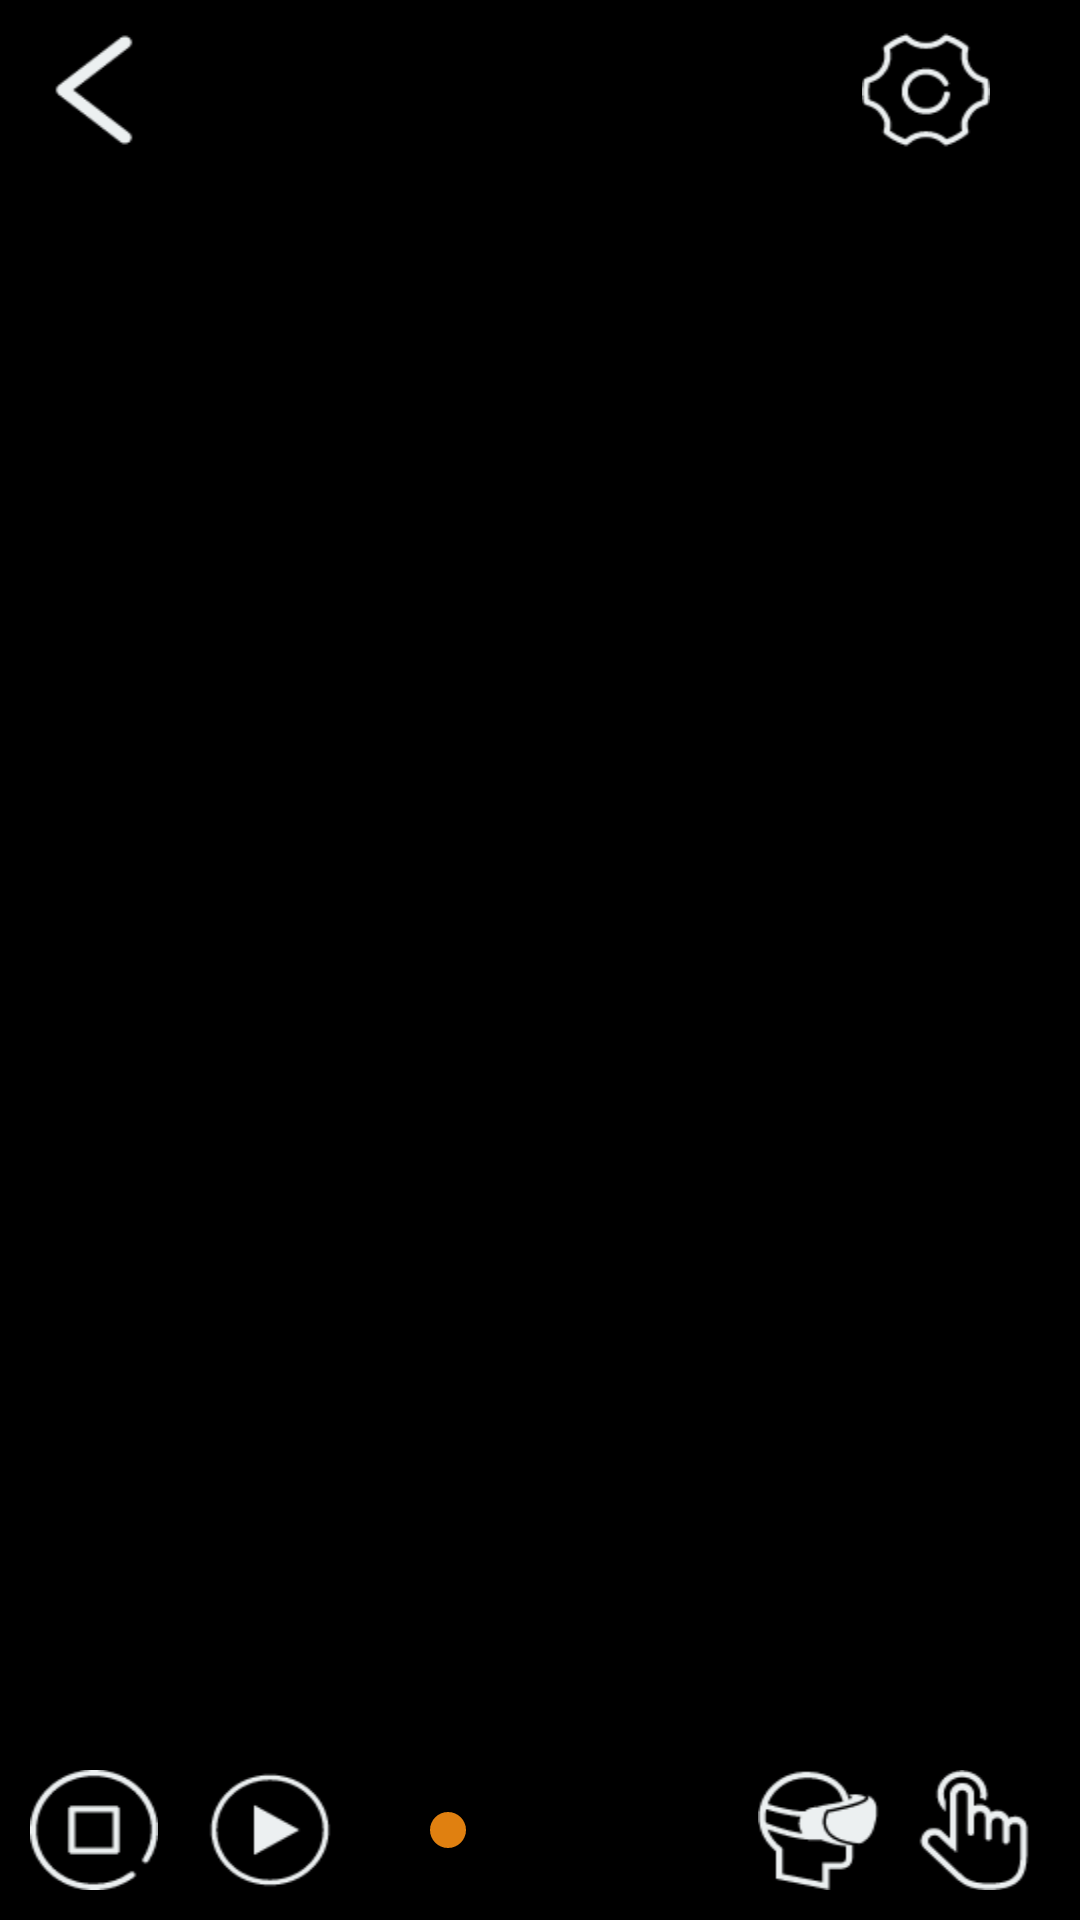

Screen size 1080w x 1920h. Icon name, then its center in pixels as [x,y]:
play: [270,1830]
setting: [926,90]
stop: [94,1830]
touch: [974,1830]
